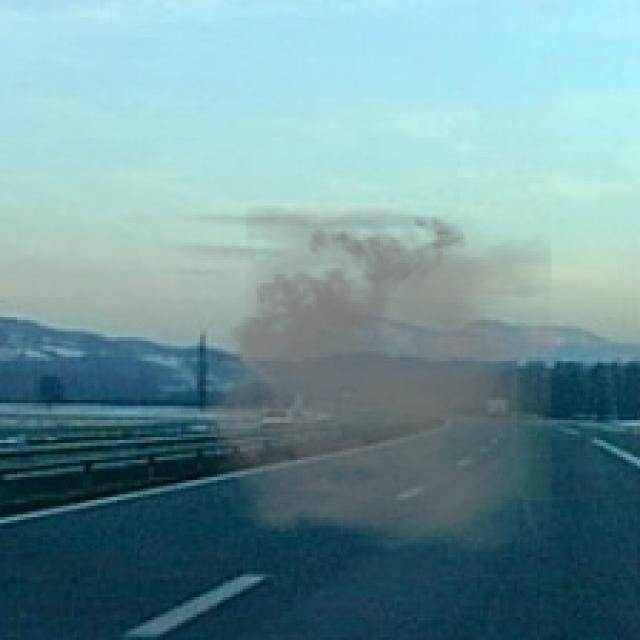Smoke: (186, 206, 552, 552)
